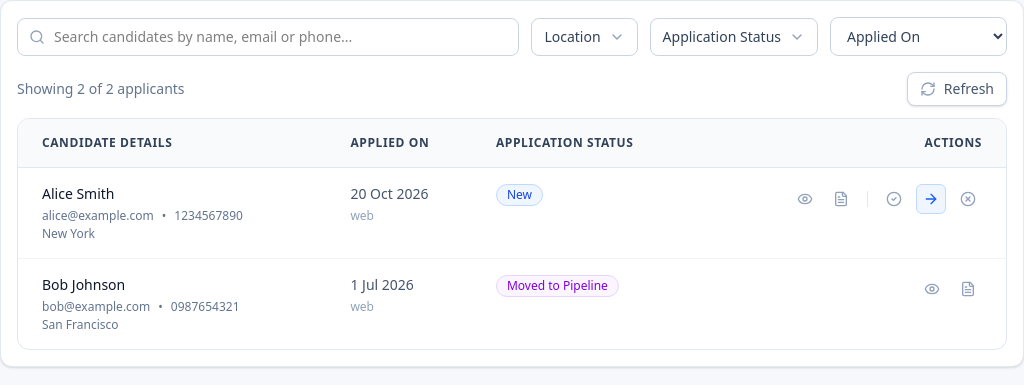
JobApplicantsTab Filtering › clears filters when Clear all is clicked
Type "Alice" into the field with placeholder "Search candidates by name, email or phone..." at point(268, 36), box [17, 18, 519, 56]
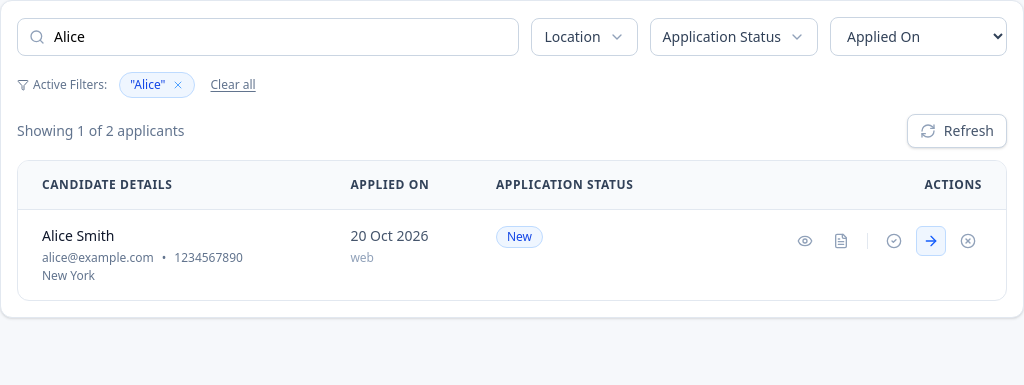
Result: the text "Bob Johnson" is gone
Click Clear all
Click the button "Clear all" at point(233, 85), box [210, 77, 256, 93]
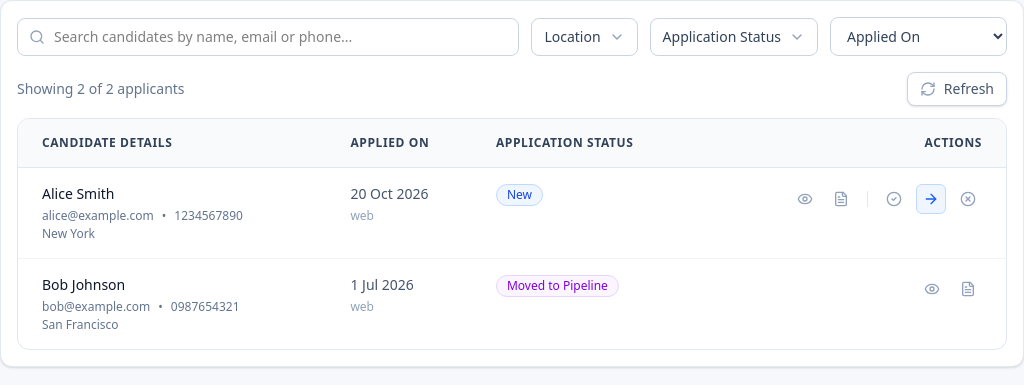
Result: the text "Bob Johnson" is shown at [42, 275, 125, 294]
